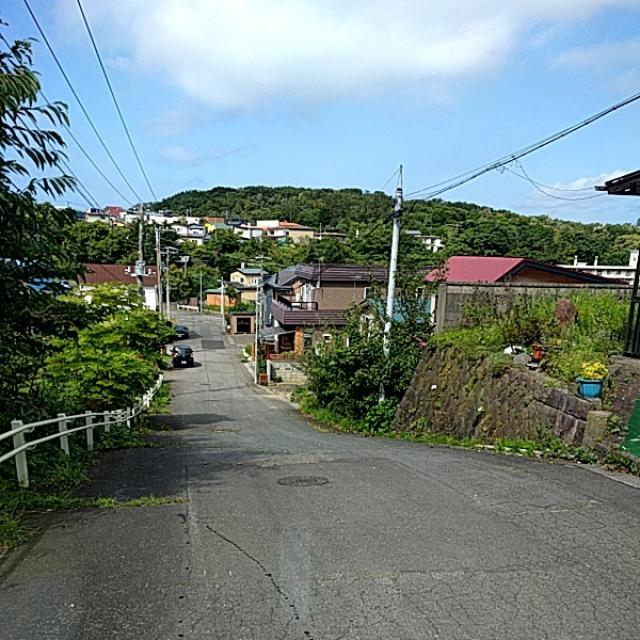pothole: (115, 538, 301, 639), (400, 556, 633, 636)
